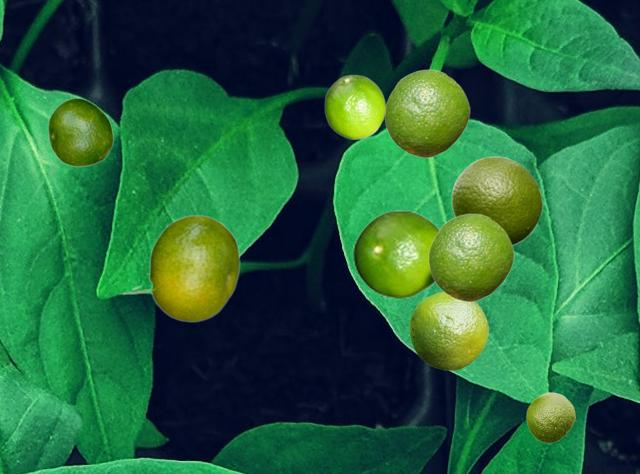calamansi: (118, 214, 239, 321), (451, 155, 542, 245), (352, 210, 440, 298), (384, 69, 469, 157), (428, 213, 513, 301), (409, 291, 487, 369), (47, 97, 113, 166), (324, 74, 385, 138), (526, 392, 574, 442)
